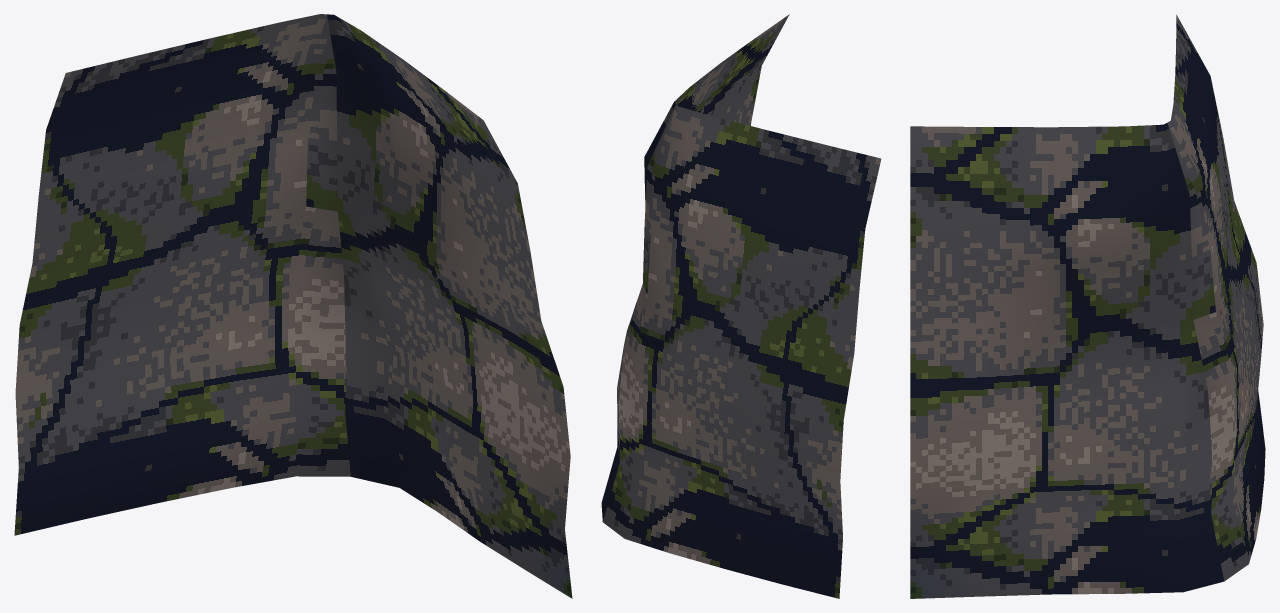
The model's file is cave.wall__corner.glb.
The picture shows the model from 3 angles, left to right: view 1: azimuth 30°, elevation 25°; view 2: azimuth 150°, elevation 25°; view 3: azimuth 270°, elevation 25°; orthographic projection. The views are drawn at different scales.
Visible parts, largest first — view 1: kit_shell_rock; view 2: kit_shell_rock; view 3: kit_shell_rock.
Part boxes in pixels (x1,y1,x2,y2): kit_shell_rock: [14, 14, 572, 598]; kit_shell_rock: [601, 14, 881, 598]; kit_shell_rock: [910, 14, 1265, 598].
Size of the model in its own units: 3.7 by 5 by 3.7.
Materials: 1 (1 with a texture image).
